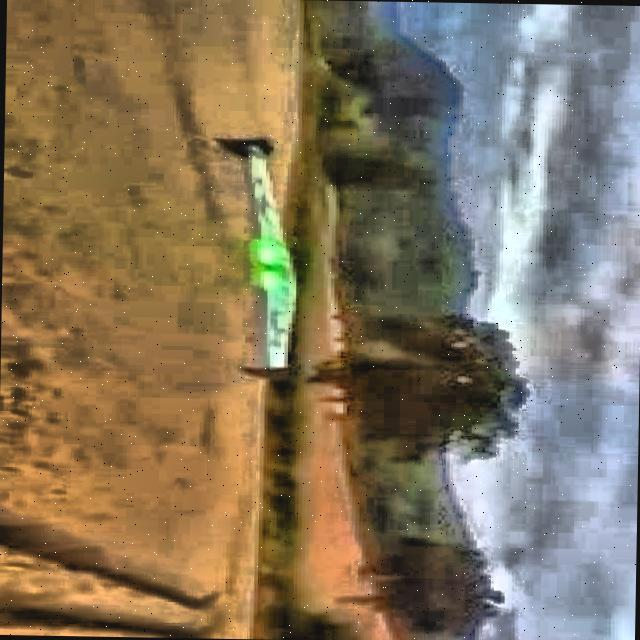iha: (229, 116, 268, 392)
